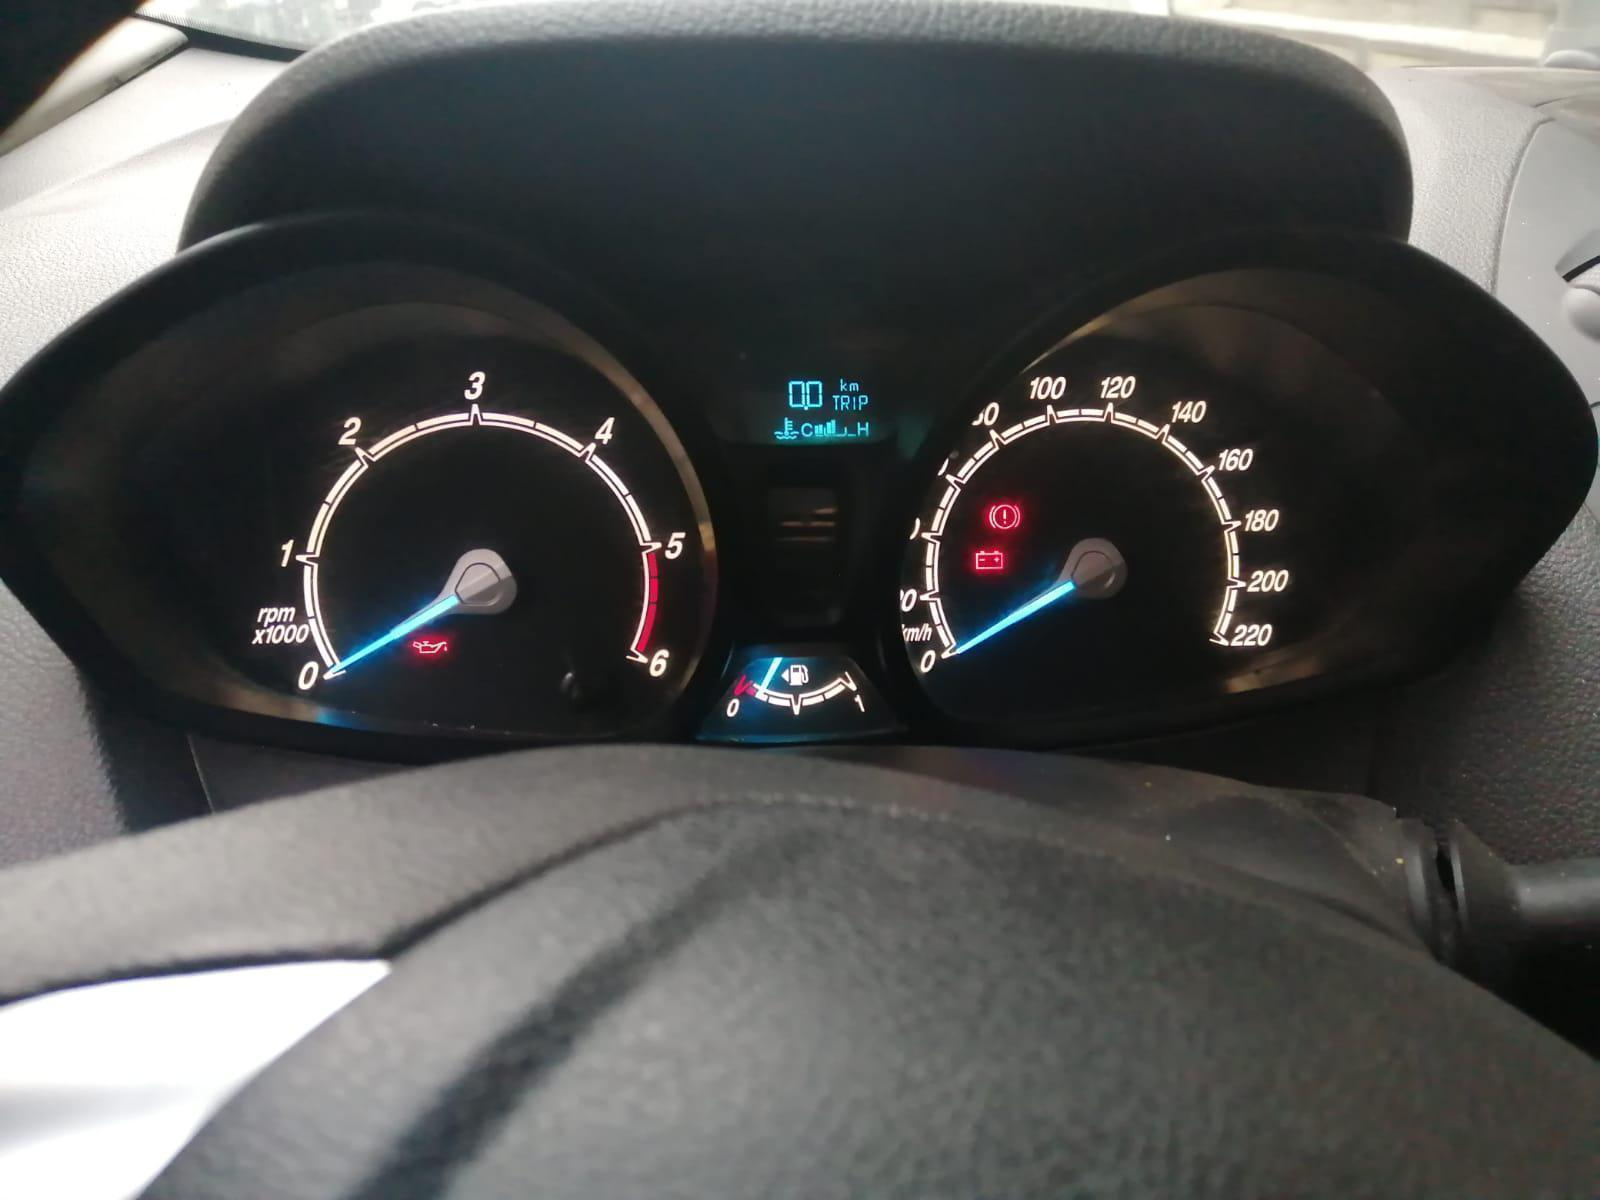,: (804, 405, 808, 411)
0: (787, 379, 806, 408), (806, 379, 824, 408)
X: (857, 420, 869, 437), (800, 421, 813, 437), (858, 395, 868, 412), (840, 395, 850, 411), (838, 376, 848, 391), (831, 395, 839, 411), (849, 381, 859, 391), (850, 395, 855, 412)
odometer: (736, 366, 900, 449)
